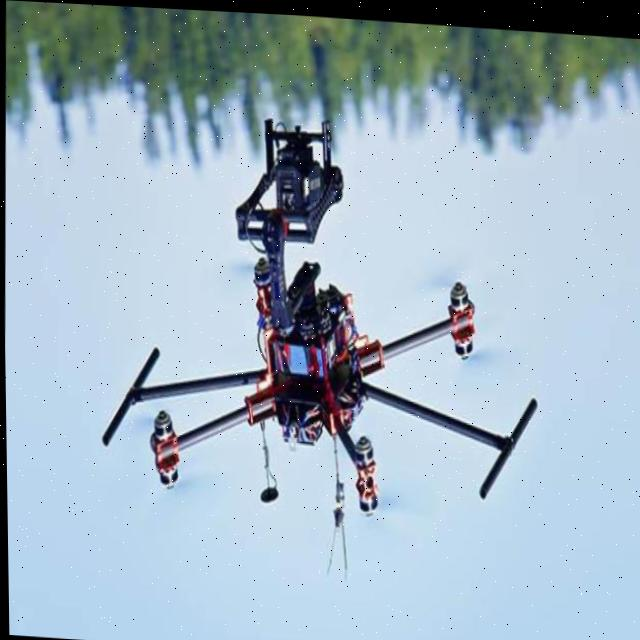drones: (83, 103, 542, 588)
